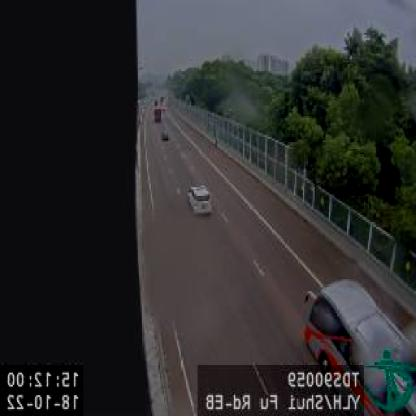Bus: (300, 276, 414, 415)
Car: (186, 182, 214, 218), (159, 129, 171, 142)
